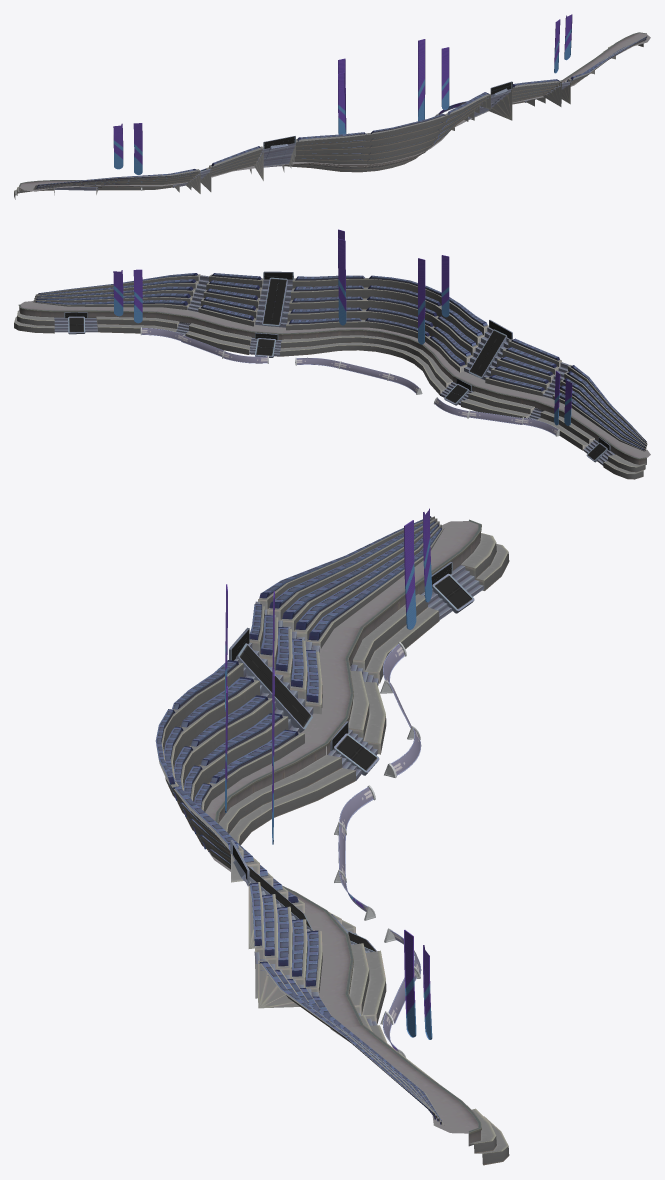
The model's file is pref_sm_beach_bk_pointmol_topbuild03_lv2.fbx.
3 renders of one model, top to bottom at view 1: azimuth 30°, elevation 25°; view 2: azimuth 150°, elevation 25°; view 3: azimuth 270°, elevation 25°, orthographic. The views are drawn at different scales.
Parts seen in each view (by area): view 1: sm_beach_bk_pointmol_topbuild01f_lv2, sm_beach_bk_pointmol_topbuild01e_lv2, sm_beach_bk_pointmol_topbuild03b_lv2, sm_beach_bk_pointmol_topbuild01g_lv2; view 2: sm_beach_bk_pointmol_topbuild01g_lv2, sm_beach_bk_pointmol_topbuild01f_lv2, sm_beach_bk_pointmol_topbuild01e_lv2, sm_beach_bk_pointmol_topbuild03b_lv2; view 3: sm_beach_bk_pointmol_topbuild01e_lv2, sm_beach_bk_pointmol_topbuild01f_lv2, sm_beach_bk_pointmol_topbuild01g_lv2, sm_beach_bk_pointmol_topbuild03b_lv2.
Part boxes in pixels (bbox=[...]): sm_beach_bk_pointmol_topbuild01f_lv2: bbox=[282, 92, 490, 172]; sm_beach_bk_pointmol_topbuild01e_lv2: bbox=[14, 136, 296, 199]; sm_beach_bk_pointmol_topbuild03b_lv2: bbox=[113, 14, 572, 190]; sm_beach_bk_pointmol_topbuild01g_lv2: bbox=[468, 32, 650, 120]; sm_beach_bk_pointmol_topbuild01g_lv2: bbox=[14, 271, 293, 357]; sm_beach_bk_pointmol_topbuild01f_lv2: bbox=[280, 275, 488, 395]; sm_beach_bk_pointmol_topbuild01e_lv2: bbox=[440, 320, 650, 479]; sm_beach_bk_pointmol_topbuild03b_lv2: bbox=[113, 229, 572, 436]; sm_beach_bk_pointmol_topbuild01e_lv2: bbox=[229, 516, 509, 780]; sm_beach_bk_pointmol_topbuild01f_lv2: bbox=[155, 660, 355, 933]; sm_beach_bk_pointmol_topbuild01g_lv2: bbox=[230, 840, 509, 1165]; sm_beach_bk_pointmol_topbuild03b_lv2: bbox=[225, 508, 432, 1057].
Size of the model in its own units: 125 by 21.52 by 30.47.
